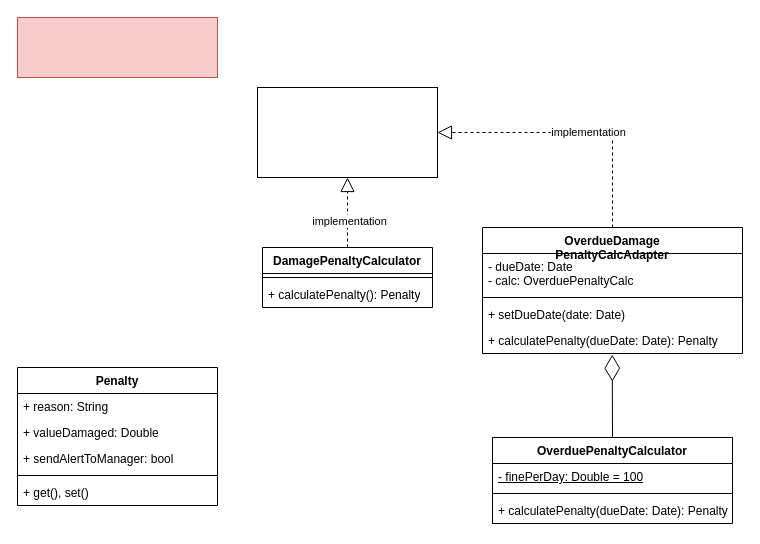
Some shapes in this 760 by 544 pixel diagram are drawn without their labels. Here are the shapes that lost their labels. From the top down, the centre of each, then its label:
the point at 117,47: Đề bài: Hệ thống quản lý bán trang phục Module quản lý phạt do lỗi
the point at 347,132: <<Interface>> IDamagePenalty + calculatePenalty(): Penalty
